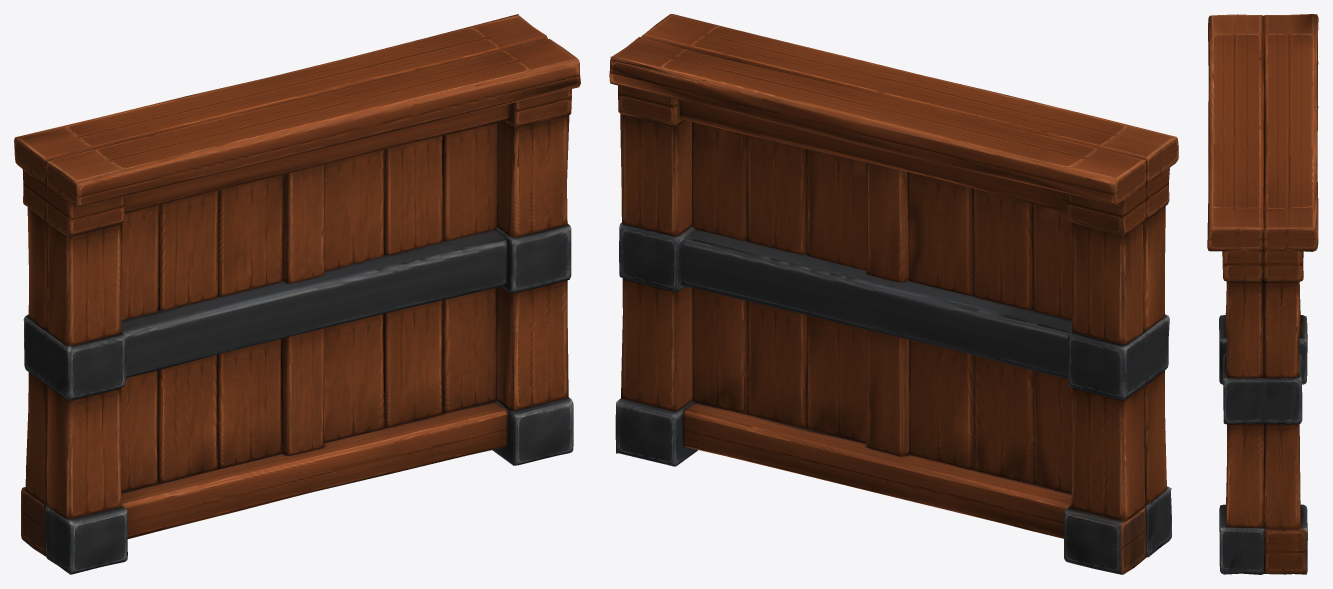
Rendered from Wooden_Barricade.fbx.
The picture shows the model from 3 angles, left to right: view 1: azimuth 30°, elevation 25°; view 2: azimuth 150°, elevation 25°; view 3: azimuth 270°, elevation 25°; orthographic projection. The views are drawn at different scales.
Parts seen in each view (by area): view 1: mesh_node; view 2: mesh_node; view 3: mesh_node.
Boxes of the visible parts, <box> form: mesh_node: <box>14,14,580,574</box>; mesh_node: <box>609,14,1178,574</box>; mesh_node: <box>1207,14,1318,574</box>.
Size of the model in its own units: 100 by 75.98 by 22.02.
Materials: 1 (1 with a texture image).
